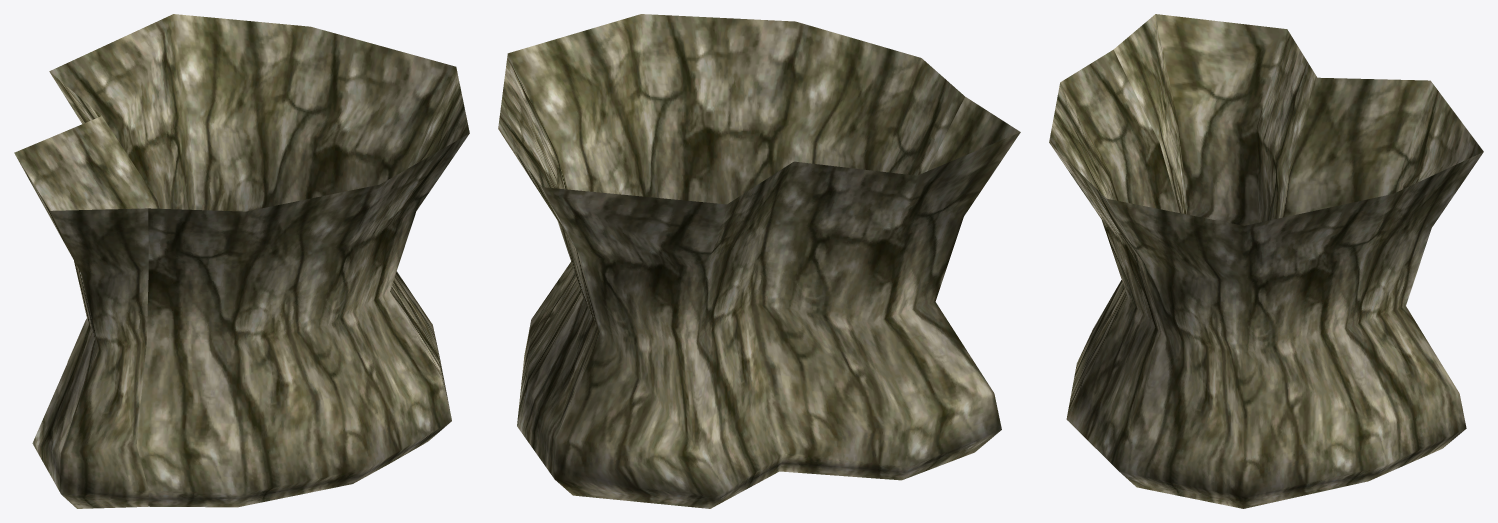
File: CB_NEWPLAYSURFACE_CB_PLAYSURFACE48.fbx
3 views of the same model, side by side, from view 1: azimuth 30°, elevation 25°; view 2: azimuth 150°, elevation 25°; view 3: azimuth 270°, elevation 25° (orthographic). The views are drawn at different scales.
Visible parts, largest first — view 1: CB_NEWPLAYSURFACE_CB_PLAYSURFACE48; view 2: CB_NEWPLAYSURFACE_CB_PLAYSURFACE48; view 3: CB_NEWPLAYSURFACE_CB_PLAYSURFACE48.
Boxes of the visible parts, x1,y1,x2,y2 form: CB_NEWPLAYSURFACE_CB_PLAYSURFACE48: (14,14,469,508); CB_NEWPLAYSURFACE_CB_PLAYSURFACE48: (498,14,1020,508); CB_NEWPLAYSURFACE_CB_PLAYSURFACE48: (1049,14,1483,508).
Size of the model in its own units: 84242 by 55787 by 73059.
2 materials, 2 textured.
